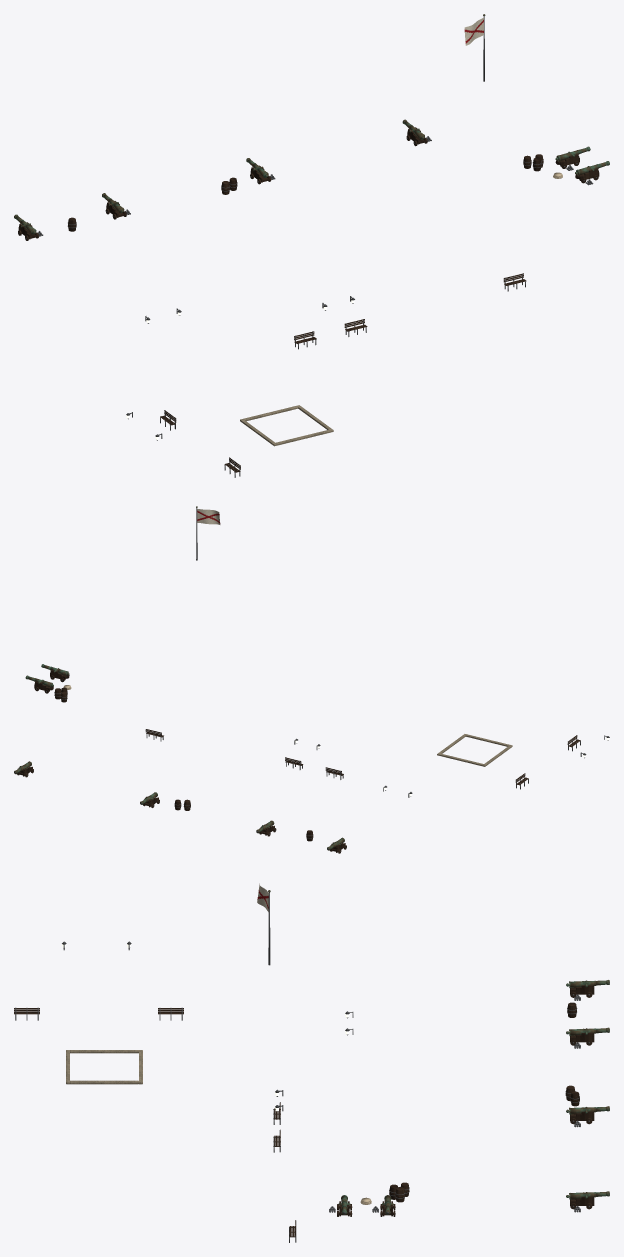
File: historical_props.glb
3 renders of one model, top to bottom at view 1: azimuth 30°, elevation 25°; view 2: azimuth 150°, elevation 25°; view 3: azimuth 270°, elevation 25°, orthographic. The views are drawn at different scales.
Visible parts, largest first — view 1: Prop_Carriages_Benches_Barrels_Wood, Prop_Colonial_Cannons_Bronze, Prop_Iron_Hardware_Shot_Mast, Prop_Oviedo_Statue_Curb; view 2: Prop_Carriages_Benches_Barrels_Wood, Prop_Colonial_Cannons_Bronze, Prop_Iron_Hardware_Shot_Mast, Prop_Oviedo_Statue_Curb; view 3: Prop_Carriages_Benches_Barrels_Wood, Prop_Colonial_Cannons_Bronze, Prop_Iron_Hardware_Shot_Mast, Prop_Oviedo_Statue_Curb.
Part boxes in pixels (x1,y1,x2,y2): Prop_Carriages_Benches_Barrels_Wood: (18,127,599,472); Prop_Colonial_Cannons_Bronze: (14,14,609,234); Prop_Iron_Hardware_Shot_Mast: (18,16,596,477); Prop_Oviedo_Statue_Curb: (240,405,333,446); Prop_Carriages_Benches_Barrels_Wood: (17,670,580,853); Prop_Colonial_Cannons_Bronze: (14,506,344,850); Prop_Iron_Hardware_Shot_Mast: (14,508,609,852); Prop_Oviedo_Statue_Curb: (437,734,512,766); Prop_Carriages_Benches_Barrels_Wood: (14,985,594,1237); Prop_Colonial_Cannons_Bronze: (268,890,609,1214); Prop_Iron_Hardware_Shot_Mast: (15,892,609,1242); Prop_Oviedo_Statue_Curb: (66,1050,142,1084).
Bounding box in the file's own units: 48.14 × 23.19 × 38.48.
Materials: 8 (5 with a texture image).
